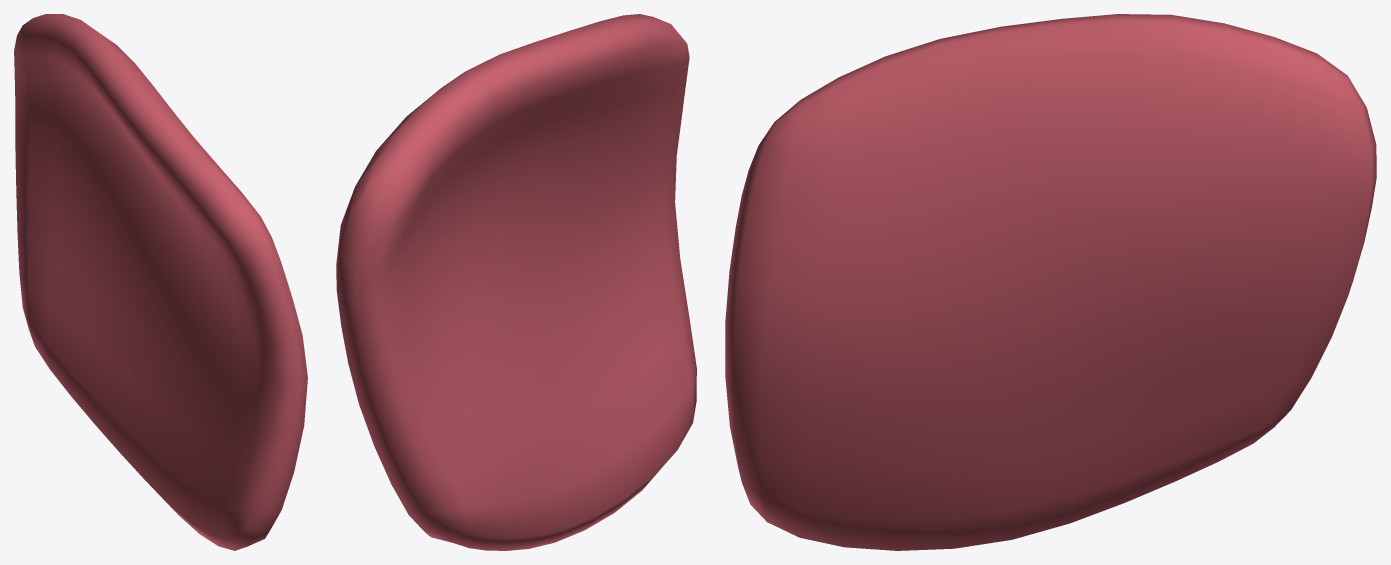
The picture shows the model from 3 angles, left to right: view 1: azimuth 30°, elevation 25°; view 2: azimuth 150°, elevation 25°; view 3: azimuth 270°, elevation 25°; orthographic projection. The views are drawn at different scales.
Parts seen in each view (by area): view 1: 左侧外踝皮下囊; view 2: 左侧外踝皮下囊; view 3: 左侧外踝皮下囊.
Boxes of the visible parts, <box> form: 左侧外踝皮下囊: <box>14,14,307,550</box>; 左侧外踝皮下囊: <box>336,14,696,550</box>; 左侧外踝皮下囊: <box>725,14,1376,550</box>.
Bounding box in the file's own units: 0.0062 × 0.0267 × 0.0297.
